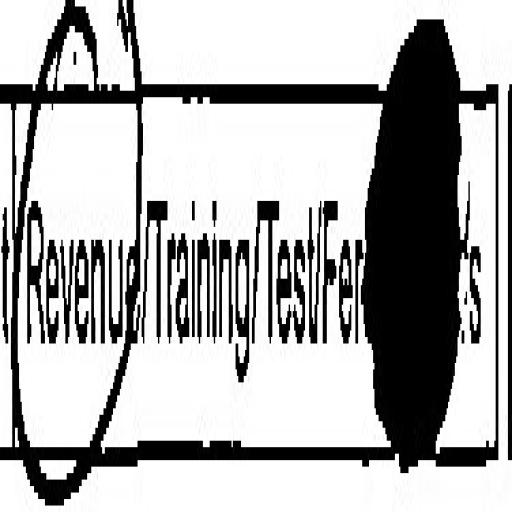check: (10, 0, 146, 512)
